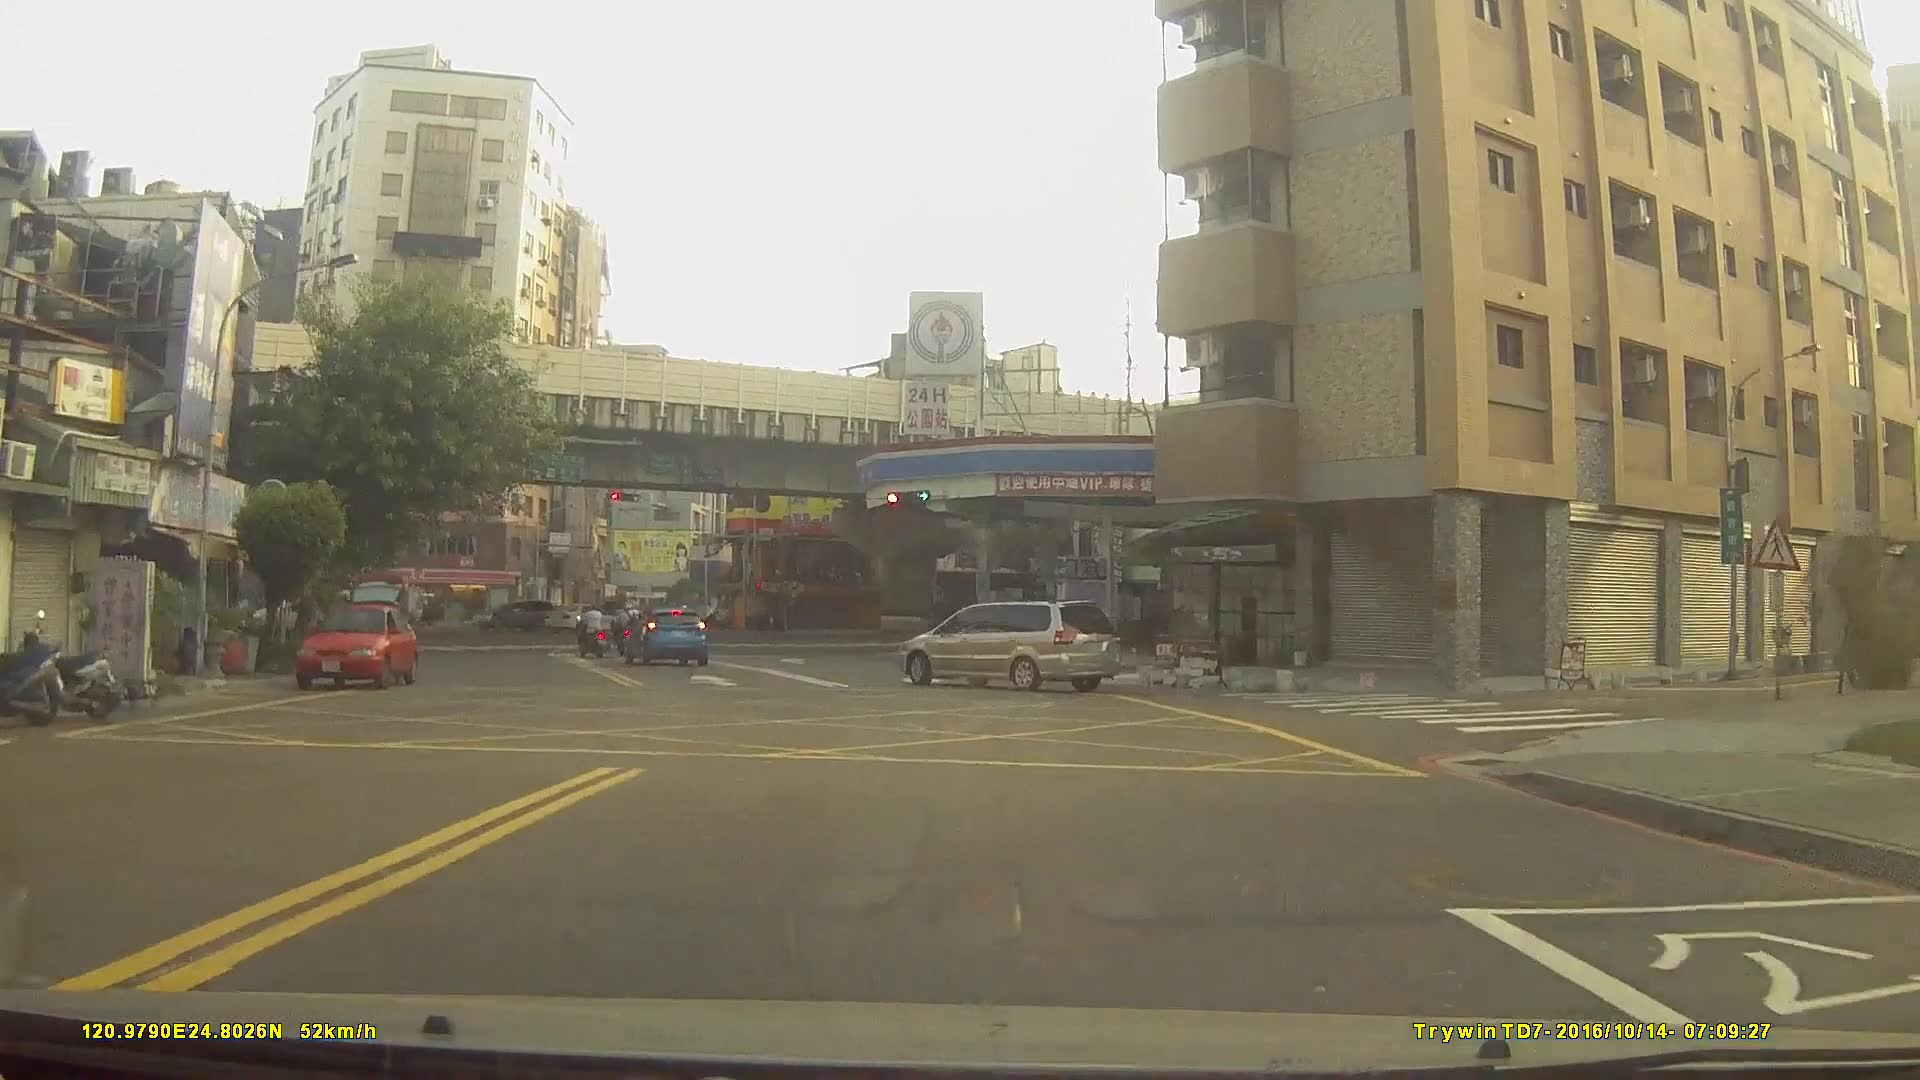rider: (576, 605, 609, 663)
vehicle: (898, 601, 1121, 694), (292, 602, 419, 692), (618, 609, 709, 670), (470, 599, 555, 634), (543, 604, 621, 635)
